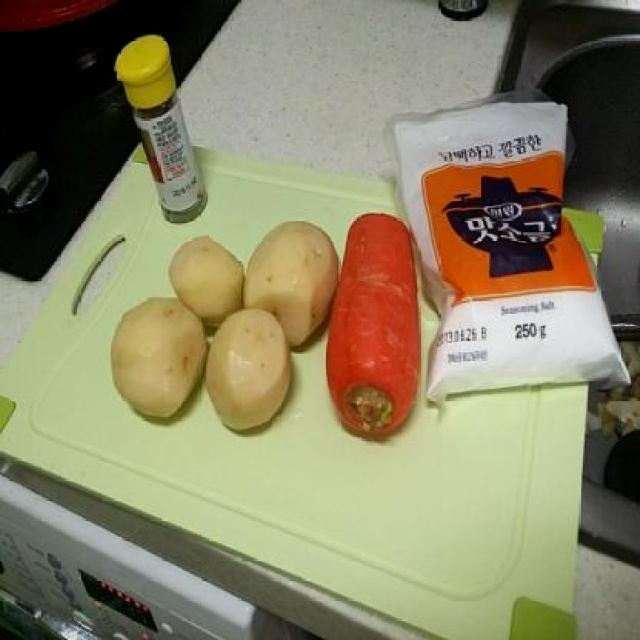carrot: (327, 209, 427, 445)
potato: (240, 216, 343, 354), (111, 292, 213, 424), (205, 308, 299, 437), (169, 236, 249, 330)
